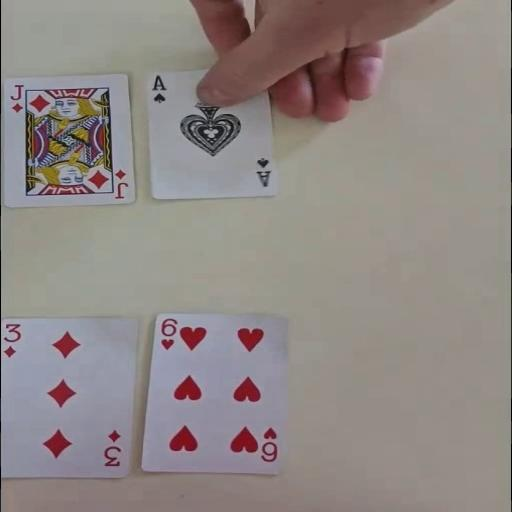3: (100, 427, 124, 468), (2, 321, 22, 359)
6: (257, 424, 279, 463), (158, 316, 180, 351)
A: (252, 155, 272, 188), (150, 72, 170, 104)
J: (7, 82, 25, 114), (112, 167, 130, 199)
